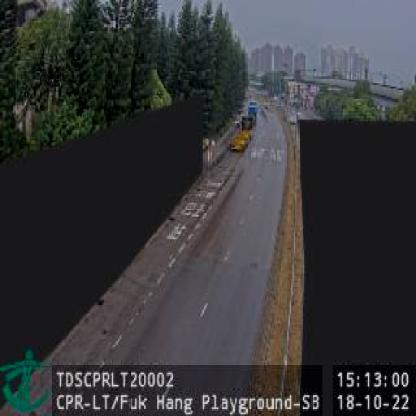Truck: (230, 122, 252, 152)
